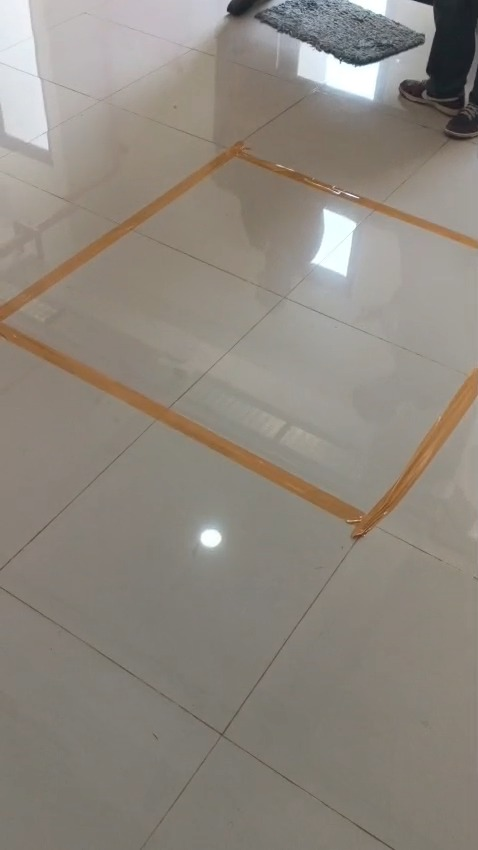floor marking: (0, 321, 477, 539), (0, 142, 477, 319)
